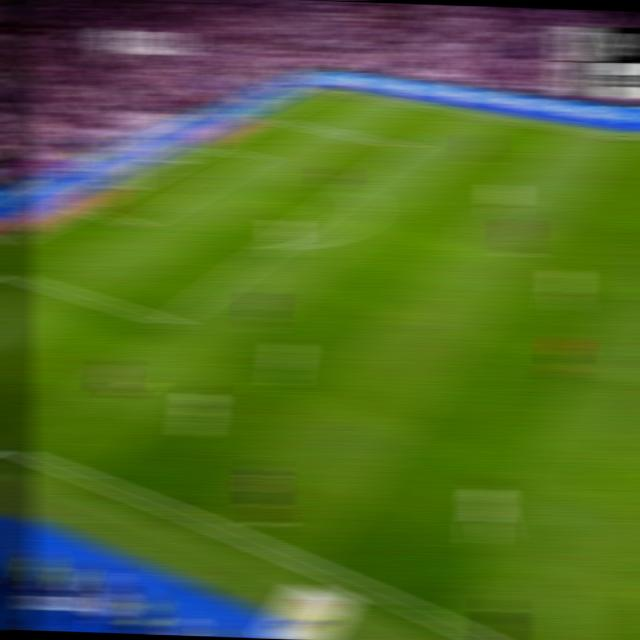bigarea_bottom_inner: (156, 310, 184, 332)
bigarea_top_inner: (397, 139, 422, 153)
bigarea_top_outter: (258, 110, 282, 122)
bottom_arc_area_intersection: (263, 240, 284, 252)
corner: (315, 84, 339, 93)
smallarea_bottom_inner: (124, 215, 150, 232)
smallarea_top_inner: (246, 152, 268, 162)
top_arc_area_intersection: (343, 178, 368, 193)
